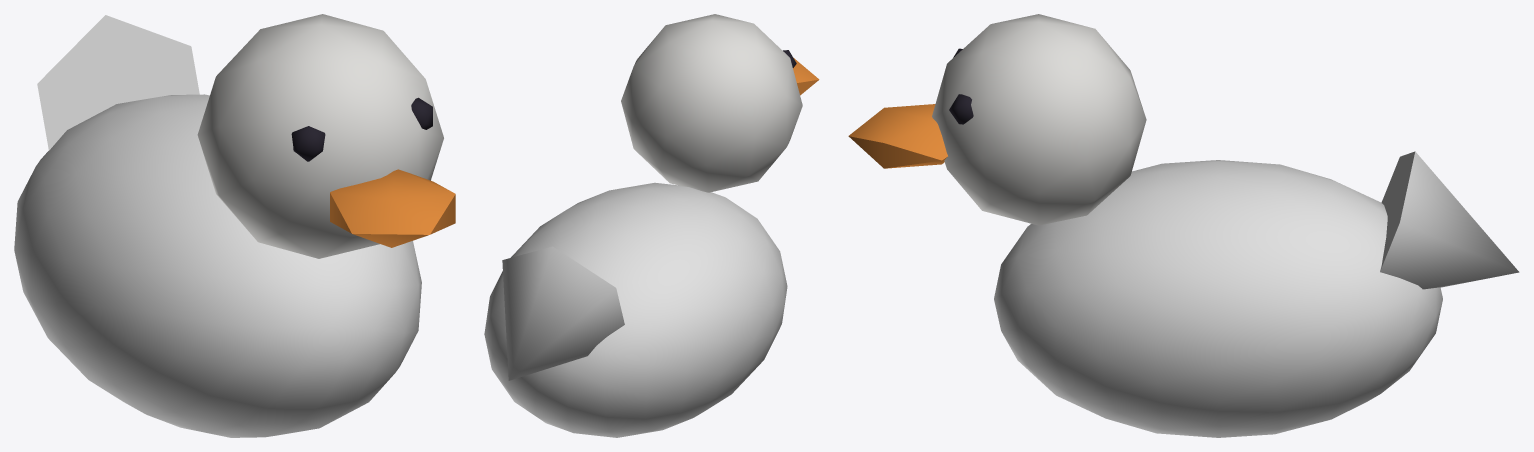
File: duck.fbx
3 views of the same model, side by side, from view 1: azimuth 30°, elevation 25°; view 2: azimuth 150°, elevation 25°; view 3: azimuth 270°, elevation 25° (orthographic). The views are drawn at different scales.
Visible parts, largest first — view 1: Body, Head; view 2: Body, Head; view 3: Body, Head.
Boxes of the visible parts, box(x1,y1,x2,y2) form: Body: box(14, 15, 421, 437); Head: box(197, 14, 455, 258); Body: box(484, 182, 787, 437); Head: box(621, 14, 819, 192); Body: box(994, 151, 1519, 437); Head: box(848, 14, 1146, 225).
Size of the model in its own units: 0.18 by 0.245 by 0.3736.
